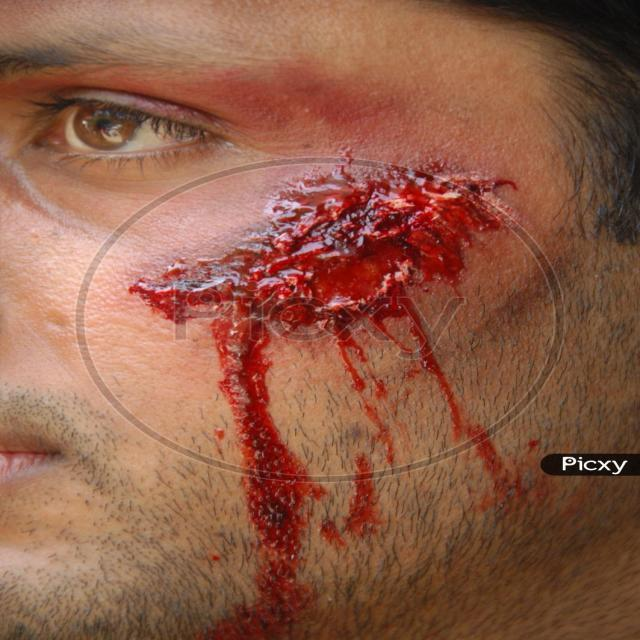flood: (129, 147, 463, 616)
